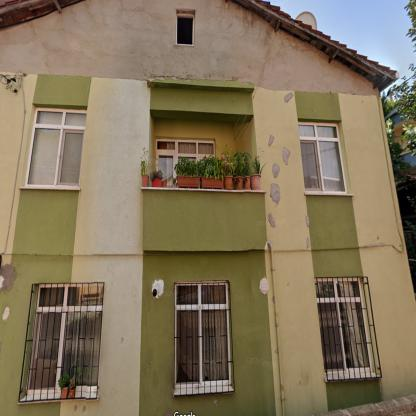window: (27, 285, 103, 394), (176, 282, 228, 384), (315, 282, 370, 373), (26, 108, 86, 186), (298, 124, 345, 191), (154, 140, 214, 185), (176, 14, 192, 44)
